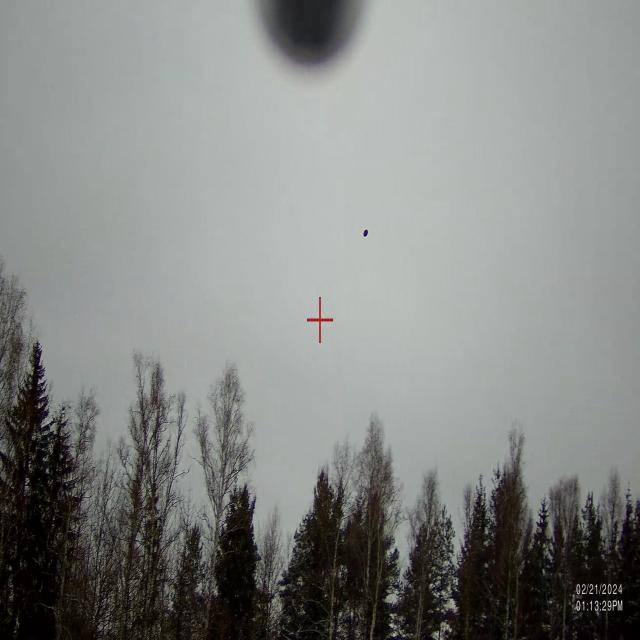entire: (355, 227, 372, 244)
